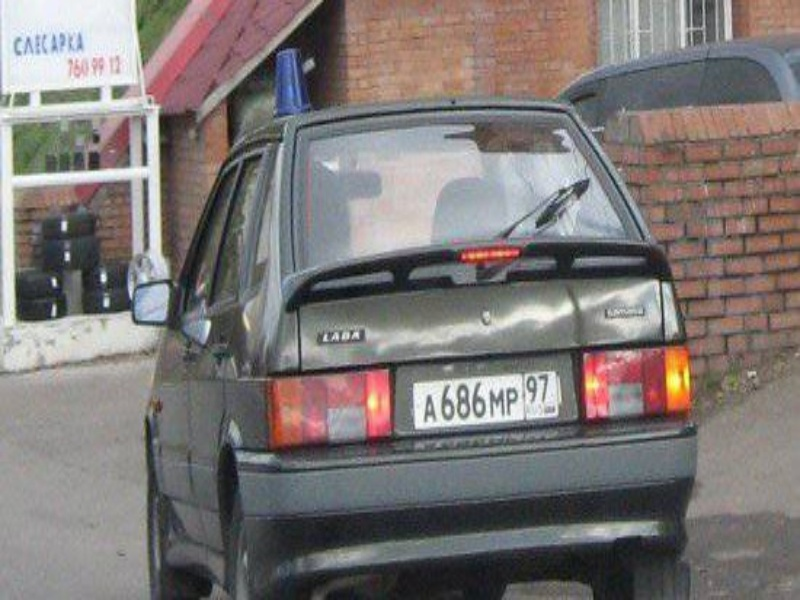car: (141, 98, 696, 600)
plate: (414, 372, 557, 425)
